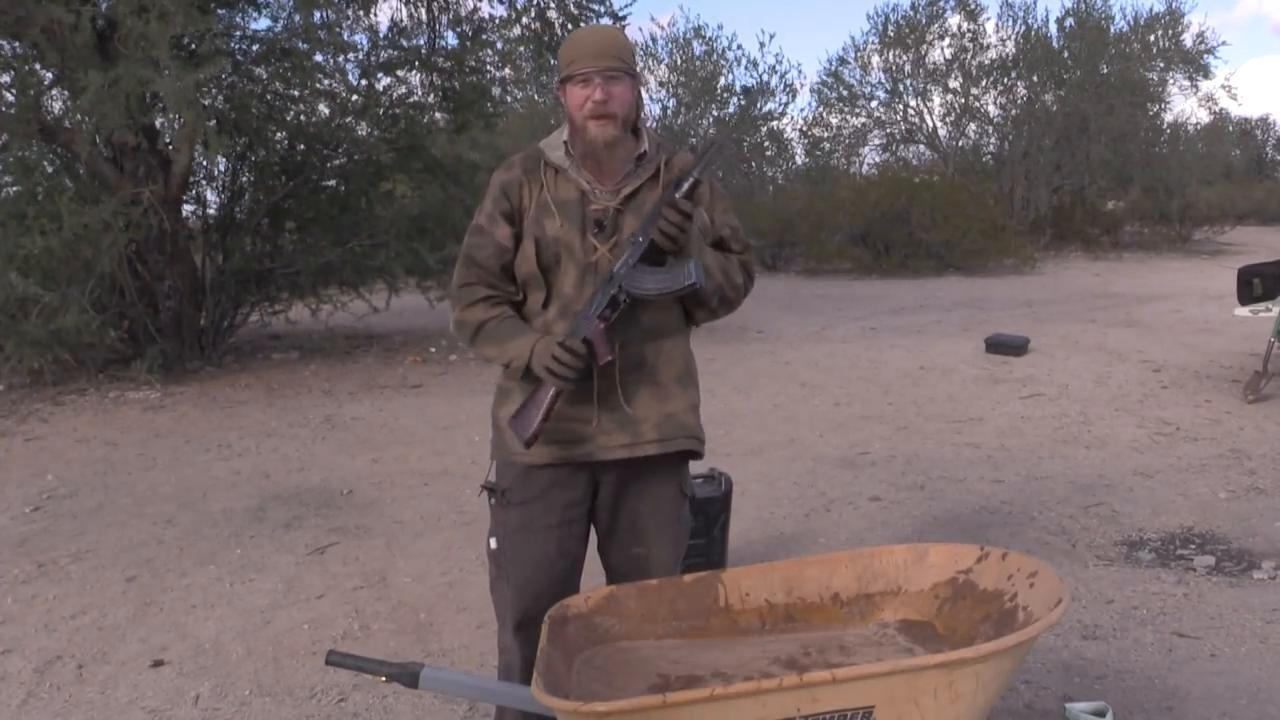AK47 Rifle: (504, 87, 764, 453)
